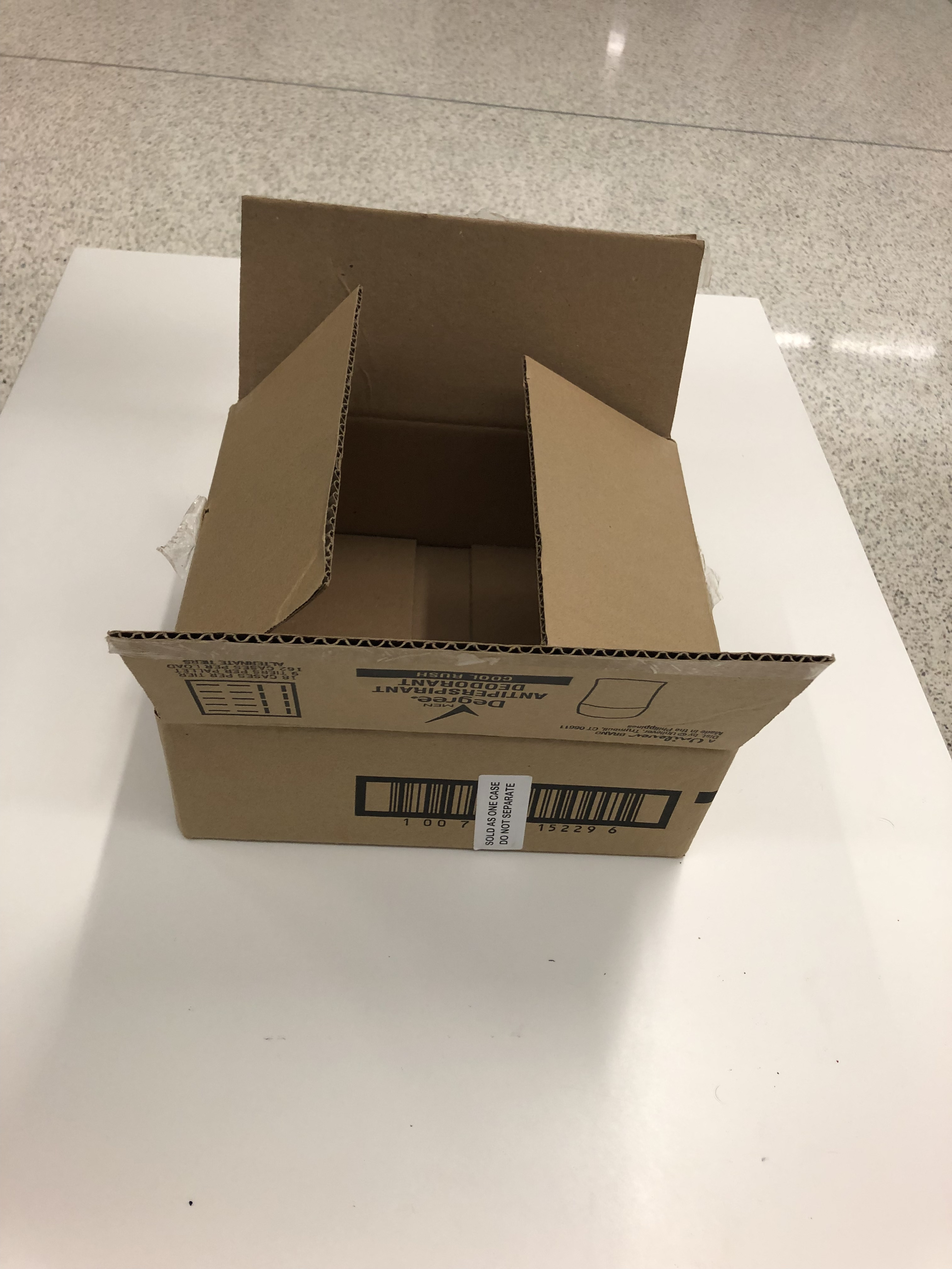box: (103, 194, 836, 858)
crushed: (102, 197, 834, 756)
